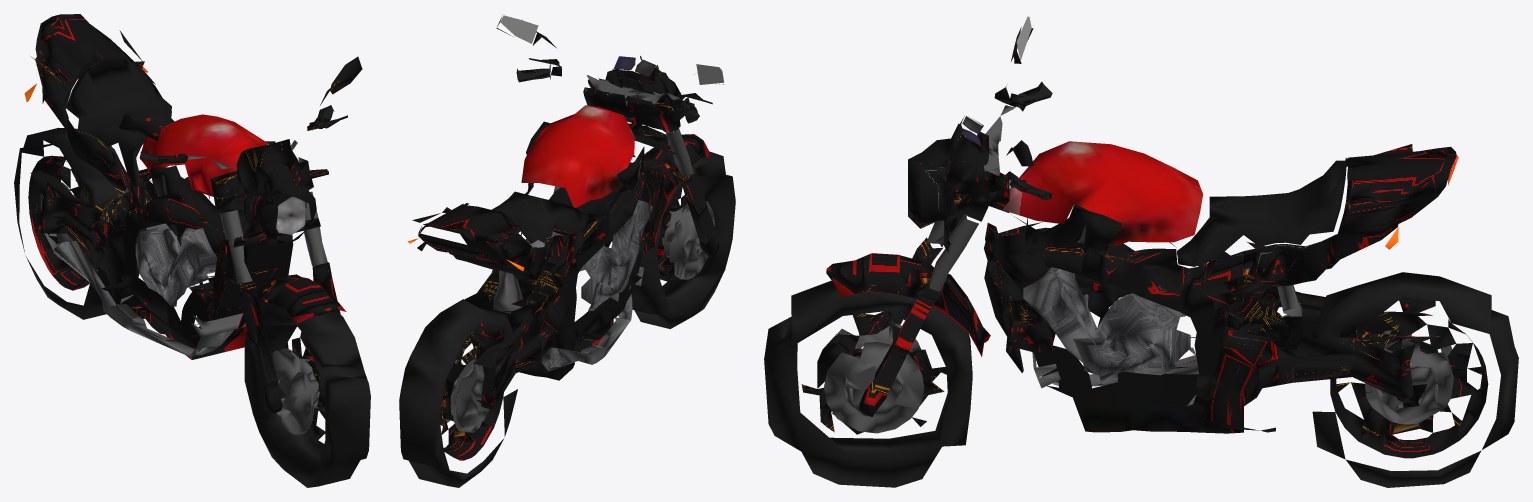
File: moto.glb
3 renders of one model, left to right at view 1: azimuth 30°, elevation 25°; view 2: azimuth 150°, elevation 25°; view 3: azimuth 270°, elevation 25°, orthographic. The views are drawn at different scales.
Visible parts, largest first — view 1: Plane_plastico preto_0, Plane_Pneu_0, Plane_Motor_0, Plane_banco_0, Plane_metal claro_0, Plane_tanque_0, Plane_farol_0, Plane_ACELERADOR_0; view 2: Plane_plastico preto_0, Plane_Pneu_0, Plane_tanque_0, Plane_metal claro_0, Plane_Motor_0, Plane_banco_0, Plane_RETROVIZOR_0, Plane_ACELERADOR_0, Plane_PAINEL_0; view 3: Plane_plastico preto_0, Plane_Pneu_0, Plane_metal claro_0, Plane_tanque_0, Plane_Motor_0, Plane_banco_0, Plane_ACELERADOR_0.
Boxes of the visible parts, x1,y1,x2,y2 form: Plane_plastico preto_0: (28,14,362,442); Plane_Pneu_0: (14,127,370,487); Plane_Motor_0: (53,223,233,356); Plane_banco_0: (66,58,174,186); Plane_metal claro_0: (40,140,327,434); Plane_tanque_0: (139,114,267,196); Plane_farol_0: (276,196,305,234); Plane_ACELERADOR_0: (140,105,334,164); Plane_plastico preto_0: (412,17,723,460); Plane_Pneu_0: (399,151,735,487); Plane_tanque_0: (521,105,635,207); Plane_metal claro_0: (440,75,714,432); Plane_Motor_0: (525,186,653,371); Plane_banco_0: (464,191,588,243); Plane_RETROVIZOR_0: (500,15,723,84); Plane_ACELERADOR_0: (516,64,699,123); Plane_PAINEL_0: (613,56,656,76); Plane_plastico preto_0: (801,27,1488,458); Plane_Pneu_0: (764,272,1518,487); Plane_metal claro_0: (824,105,1453,433); Plane_tanque_0: (1003,141,1203,246); Plane_Motor_0: (1023,267,1293,386); Plane_banco_0: (1176,160,1346,266); Plane_ACELERADOR_0: (1009,81,1052,199).
Size of the model in its own units: 1.16 by 1.56 by 2.67.
Materials: 11 (7 with a texture image).
